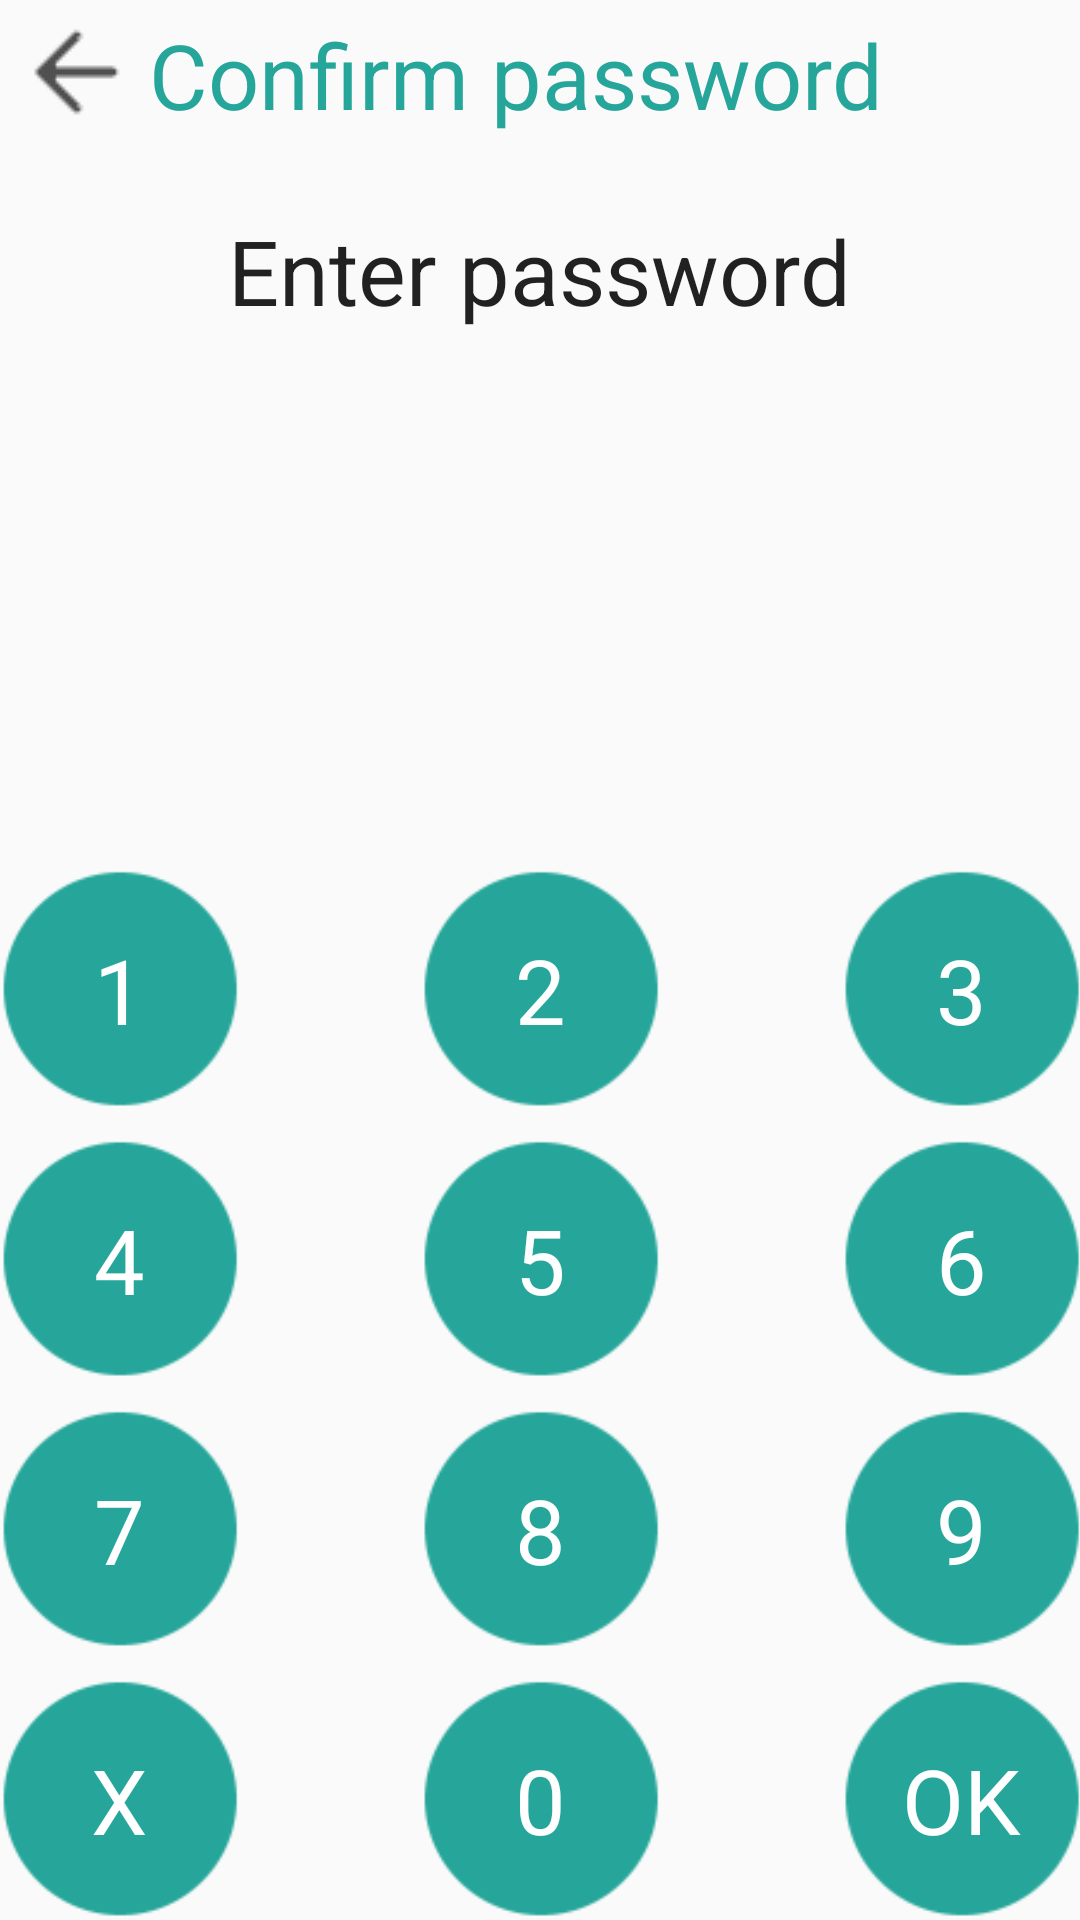

Icon click points for this 1080*1920 phone screenshot, format [x,y]:
back: [76,72]
